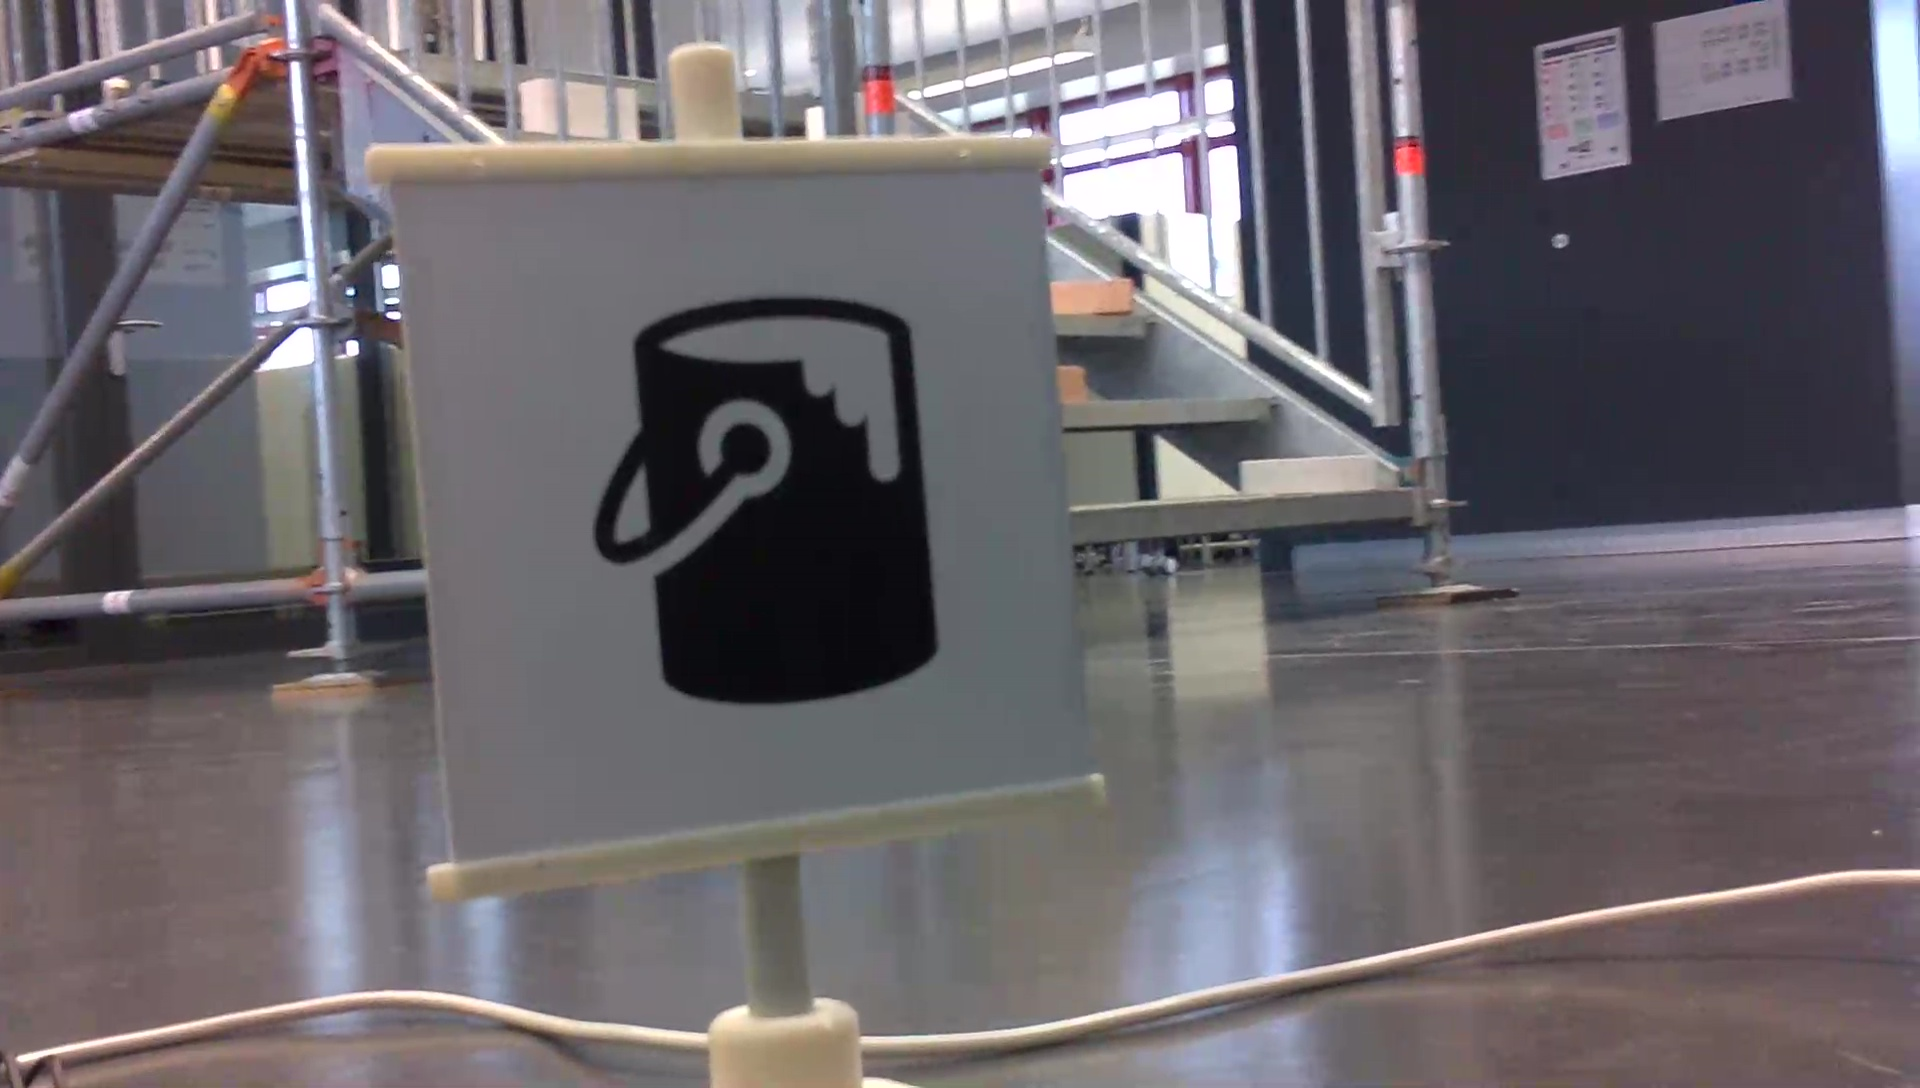brick: (1241, 454, 1378, 489), (1048, 278, 1131, 313)
bucket: (580, 287, 951, 711)
edge: (1069, 489, 1410, 542), (1062, 396, 1284, 425)
